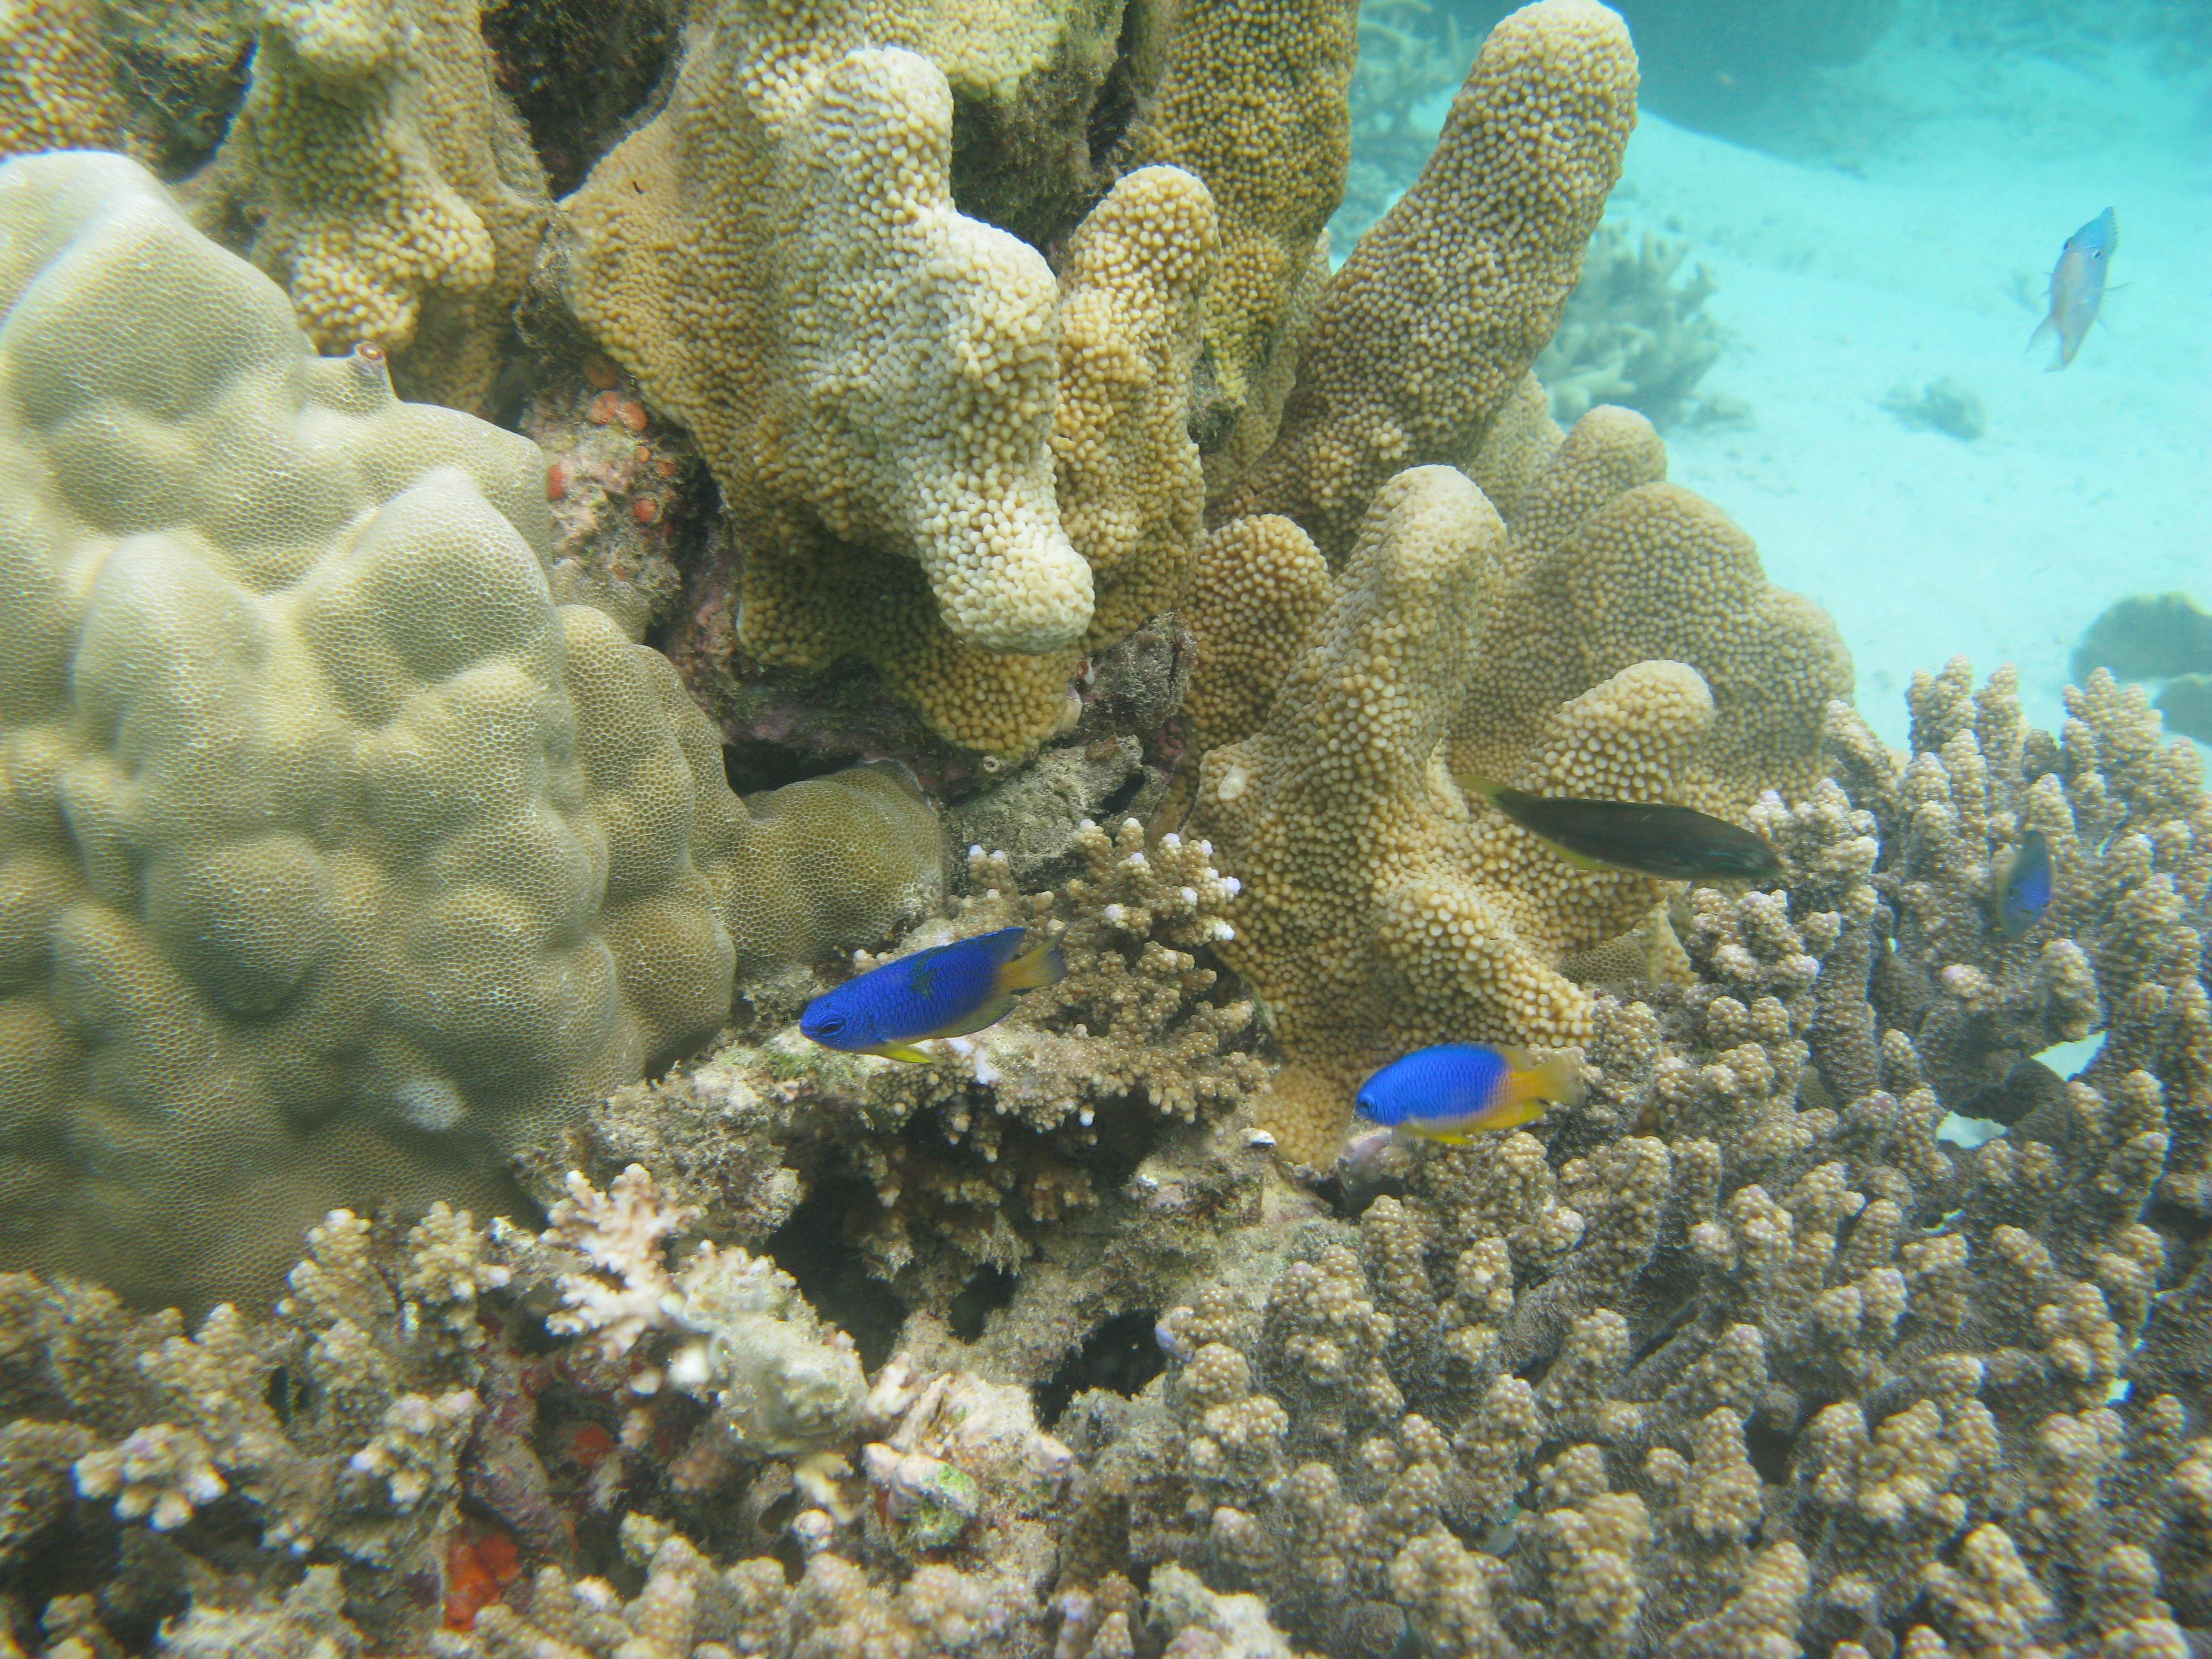Fish: (737, 894, 1103, 1096), (1303, 1016, 1629, 1180)
